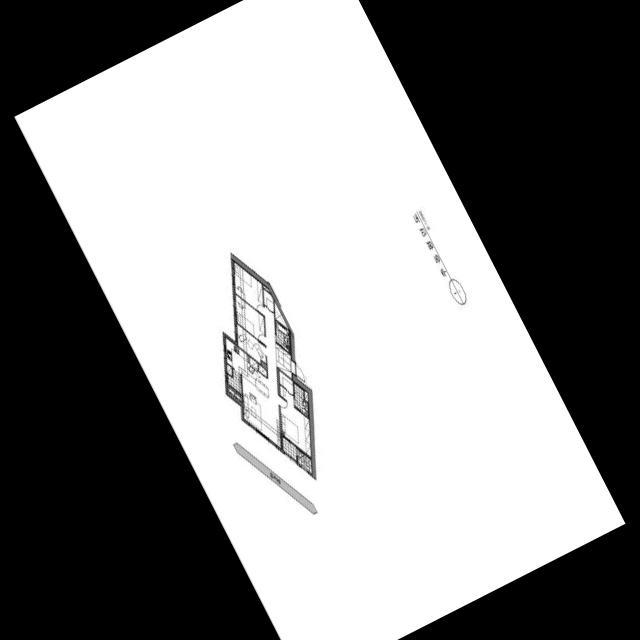background: (14, 0, 626, 640)
space_balconi: (227, 368, 242, 404), (297, 449, 312, 473), (282, 436, 296, 460)
space_bedroom: (280, 384, 311, 457), (233, 260, 264, 315), (235, 293, 265, 345), (236, 323, 266, 363)
space_dressroom: (279, 370, 293, 394)
space_front: (276, 342, 292, 378)
space_kitchen: (225, 335, 268, 395)
space_living_room: (242, 305, 281, 449)
space_other: (274, 300, 289, 329), (263, 288, 274, 311), (226, 363, 232, 375), (263, 284, 270, 292), (305, 390, 308, 401)
space_toilet: (294, 383, 308, 416), (276, 320, 290, 352)
